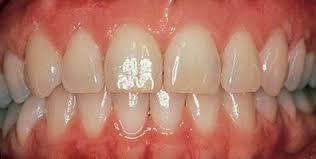cavity: (103, 18, 166, 94), (163, 25, 224, 97), (60, 21, 109, 92), (19, 23, 62, 96), (222, 24, 264, 93), (259, 25, 292, 96), (12, 94, 49, 143), (219, 91, 262, 131), (46, 87, 75, 134)
normal: (108, 86, 151, 139), (73, 87, 112, 137), (149, 87, 188, 134), (0, 40, 30, 101), (285, 28, 308, 93), (190, 91, 223, 136), (252, 88, 282, 125), (0, 94, 21, 137), (299, 47, 316, 93), (290, 93, 316, 123), (278, 95, 299, 120), (0, 70, 14, 106)
